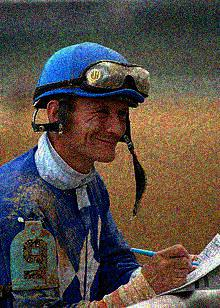helmet: (35, 41, 151, 162)
